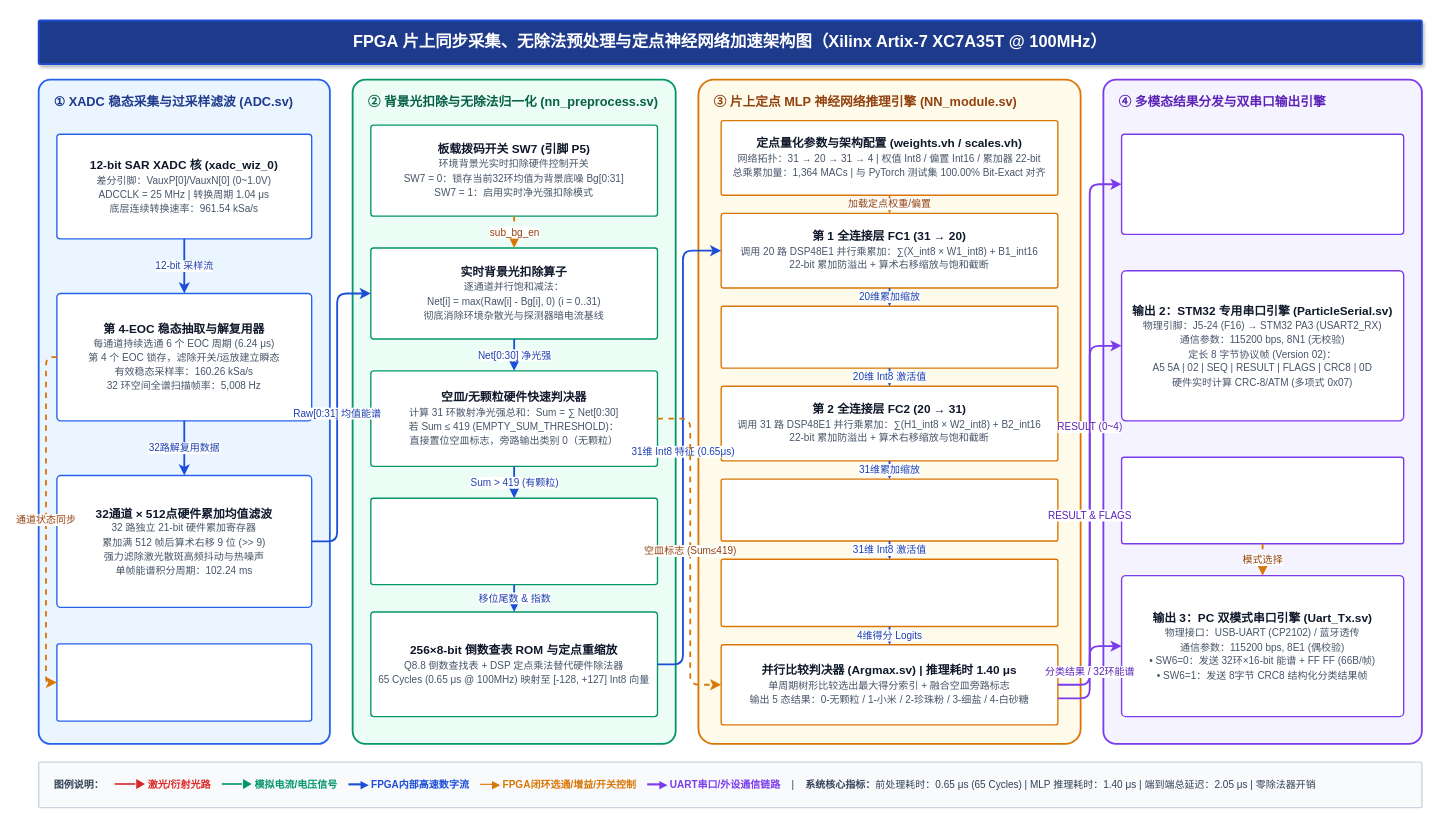
Image size: 1443x824. Some labels were removed from this diagram. The centre of each missing label's shape, as x and y in pixels:
"最大值搜索与 24-bit 前导零检测 (LZC) 搜索 31 环净光强最大值 Max_Val 24-bit LZC 硬件定位最高有效位 + 桶形移位器归一化" belongs at point (514, 541).
"板载拨码开关 SW6 (引脚 P4，带10ms消抖) PC 上位机串口双工作模式硬件切换开关 SW6 = 0：光谱采集模式 | SW6 = 1：分类结果模式" belongs at point (1262, 500).
"硬件激活层 Act1 (Hard_modified_sigmoid) 阈值 ±4.0 分段线性移位近似与上下界钳位，单周期零浮点开销" belongs at point (889, 336).
"硬件激活层 Act2 (Hard_modified_sigmoid) 分段线性移位激活，输出 31 维深层非线性散射特征" belongs at point (889, 509).
"硬件闭环选通与增益输出 opChooseChannel[6:0] → 双片 ADG1206 opEnResistor[7:0] → OP37 8档 PGA" belongs at point (184, 682).
"第 3 全连接输出层 FC3 (31 → 4) 调用 4 路 DSP48E1 并行乘累加，输出 4 类被测微粒得分 Logits[0:3]" belongs at point (889, 592).
"输出 1：板载双八段数码管驱动 (SegLed.sv) 动态扫描刷新 EGo1 板载数码管 本地零延迟直显当前微粒分类编号 (0 ~ 4)" belongs at point (1262, 184).
